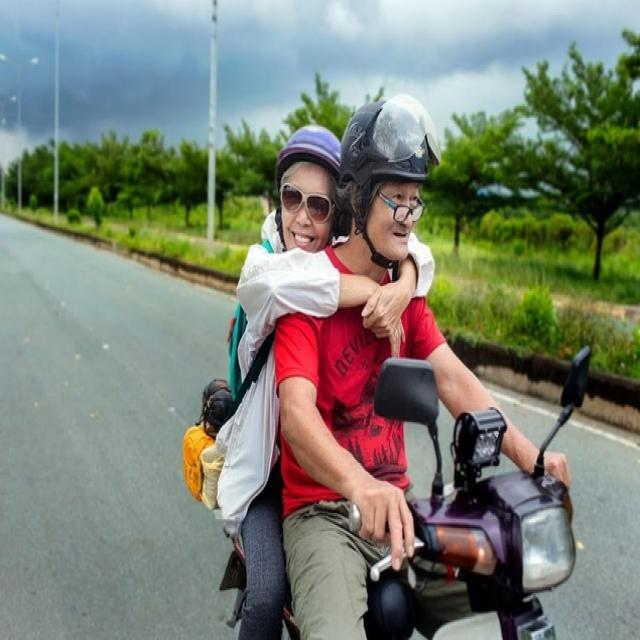helmet: (339, 93, 441, 190)
